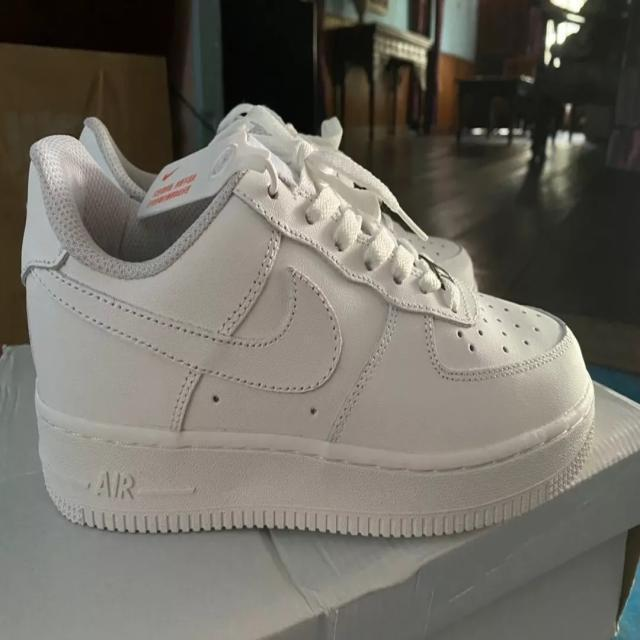nike original air force: (21, 134, 634, 536)
